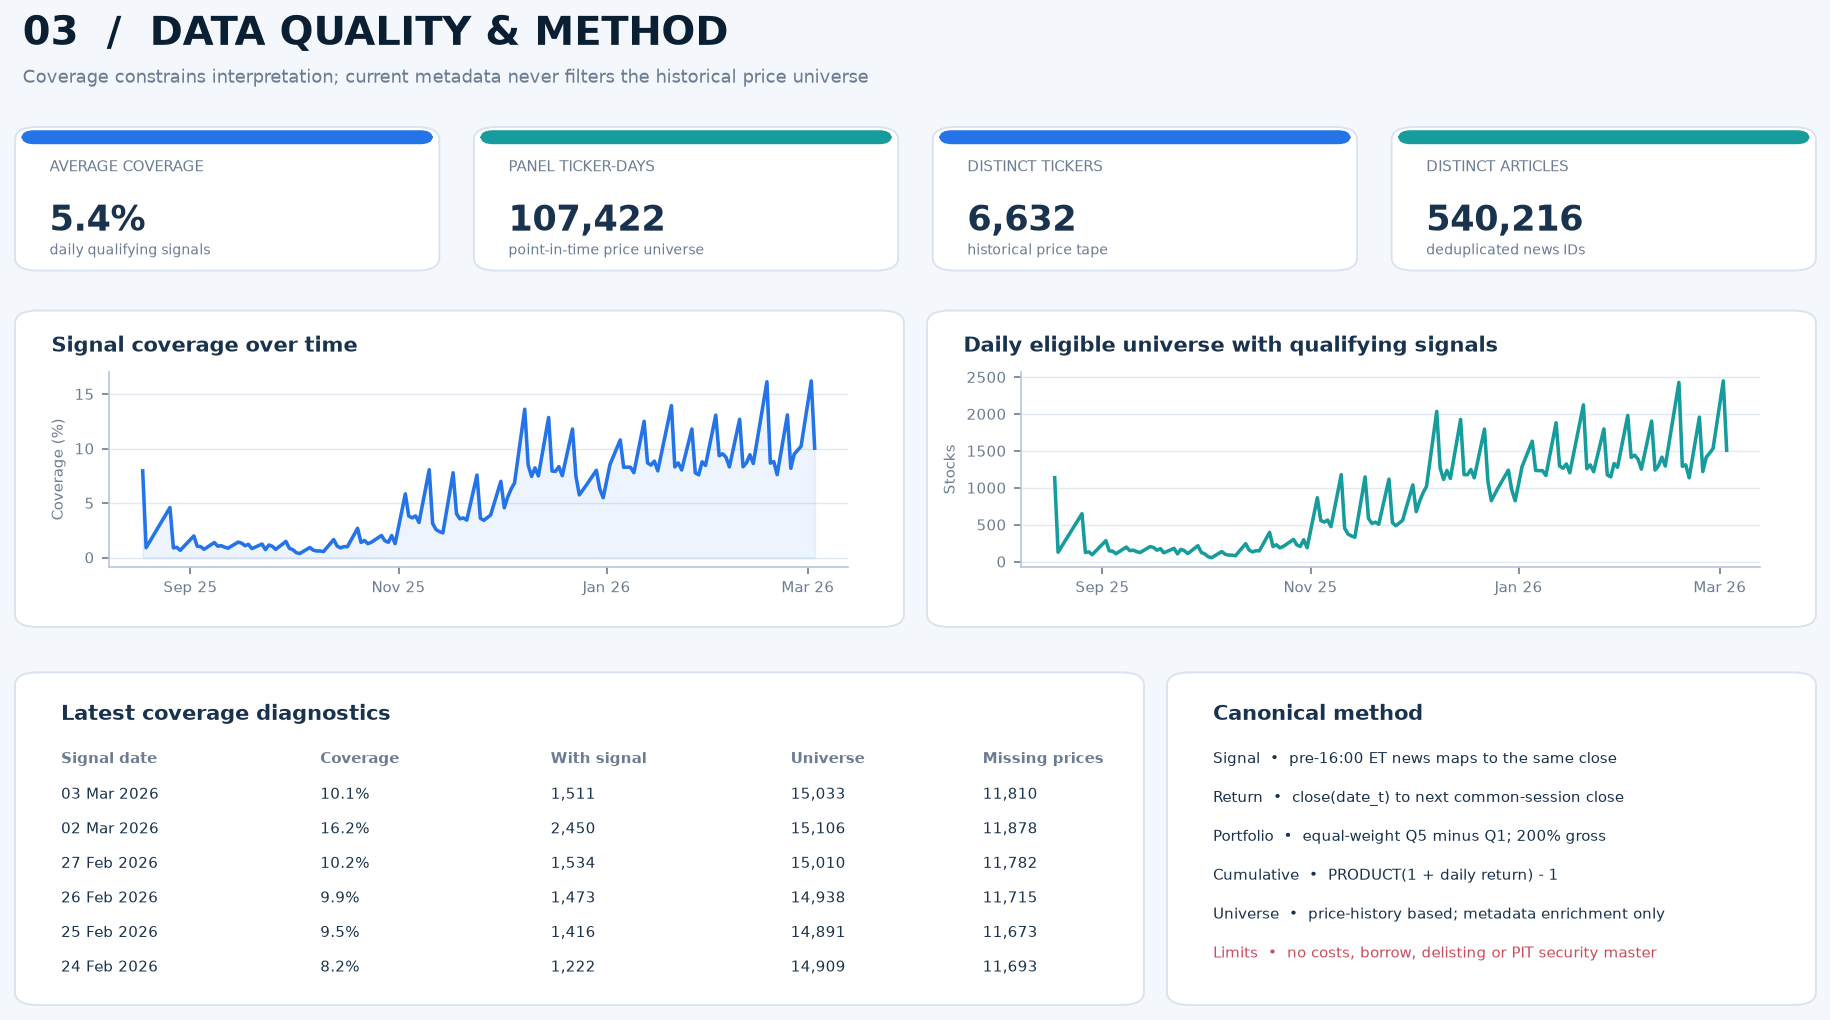

Layout of this report page (visuals, bound fields, positions):
{"tool":"powerbi","page":{"name":"03 Data Quality & Method","canvas":[1280,720],"ordinal":2},"visuals":[{"type":"textbox","box":[24,14,920,76],"z":0},{"type":"slicer","fields":{"Values":["fct_signal_daily.date_t"]},"box":[976,24,280,66],"z":1},{"type":"card","title":"Average signal coverage","fields":{"Values":["fct_signal_daily.Average Coverage"]},"box":[24,108,285,100],"z":2},{"type":"card","title":"Panel ticker-days","fields":{"Values":["fct_signal_daily.Panel Rows"]},"box":[329,108,285,100],"z":3},{"type":"card","title":"Distinct tickers","fields":{"Values":["fct_signal_daily.Distinct Tickers"]},"box":[634,108,285,100],"z":4},{"type":"card","title":"Distinct articles","fields":{"Values":["fct_signal_daily.Distinct Articles"]},"box":[939,108,317,100],"z":5},{"type":"areaChart","title":"Signal coverage over time","fields":{"Category":["fct_signal_daily.date_t"],"Y":["Avg(fct_signal_daily.coverage_ratio)"]},"box":[24,230,600,220],"z":20},{"type":"lineChart","title":"Daily eligible universe with qualifying signals","fields":{"Category":["fct_signal_daily.date_t"],"Y":["Sum(fct_signal_daily.stocks_with_signal)"]},"box":[644,230,612,220],"z":21},{"type":"tableEx","title":"Coverage diagnostics by signal date","fields":{"Values":["fct_signal_daily.date_t","Avg(fct_signal_daily.coverage_ratio)","Avg(fct_signal_daily.missing_price_count)","Sum(fct_signal_daily.stocks_with_signal)","Sum(fct_signal_daily.total_stocks)"]},"box":[24,470,762,224],"z":30},{"type":"textbox","box":[806,470,450,224],"z":31}]}

Visuals, with their boxes in screenshot pixels (x1, y1, x2, y2), scaled from the page's 1280x720 canvas onto the 1830x1020 screenshot:
textbox: 34, 20, 1350, 128
slicer - fct_signal_daily.date_t: 1395, 34, 1796, 128
"Average signal coverage" card: 34, 153, 442, 295
"Panel ticker-days" card: 470, 153, 878, 295
"Distinct tickers" card: 906, 153, 1314, 295
"Distinct articles" card: 1342, 153, 1796, 295
"Signal coverage over time" areaChart: 34, 326, 892, 638
"Daily eligible universe with qualifying signals" lineChart: 921, 326, 1796, 638
"Coverage diagnostics by signal date" tableEx: 34, 666, 1124, 983
textbox: 1152, 666, 1796, 983
